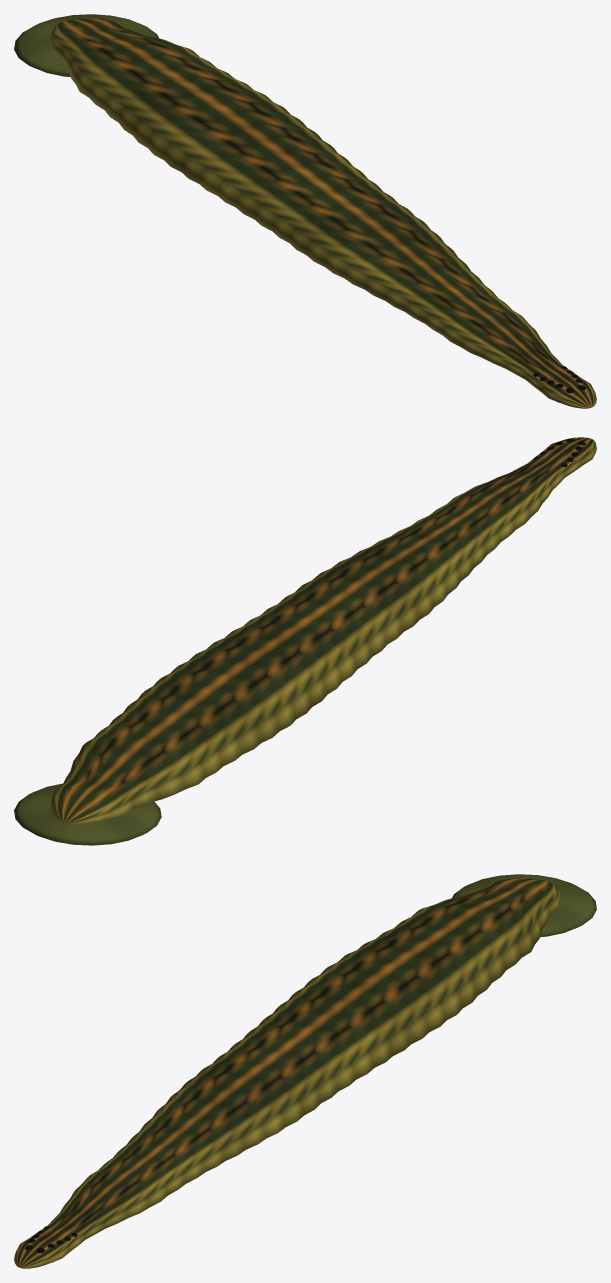
The model's file is AsianMedicinalLeech.fbx.
3 views of the same model, one above another, from view 1: azimuth 30°, elevation 25°; view 2: azimuth 150°, elevation 25°; view 3: azimuth 330°, elevation 25° (orthographic).
Parts seen in each view (by area): view 1: AsianMedicinalLeech; view 2: AsianMedicinalLeech; view 3: AsianMedicinalLeech.
Boxes of the visible parts, bbox=[...] form: AsianMedicinalLeech: bbox=[14, 14, 596, 408]; AsianMedicinalLeech: bbox=[14, 437, 596, 845]; AsianMedicinalLeech: bbox=[14, 874, 596, 1268].
Size of the model in its own units: 0.27 by 0.0864 by 1.85.
